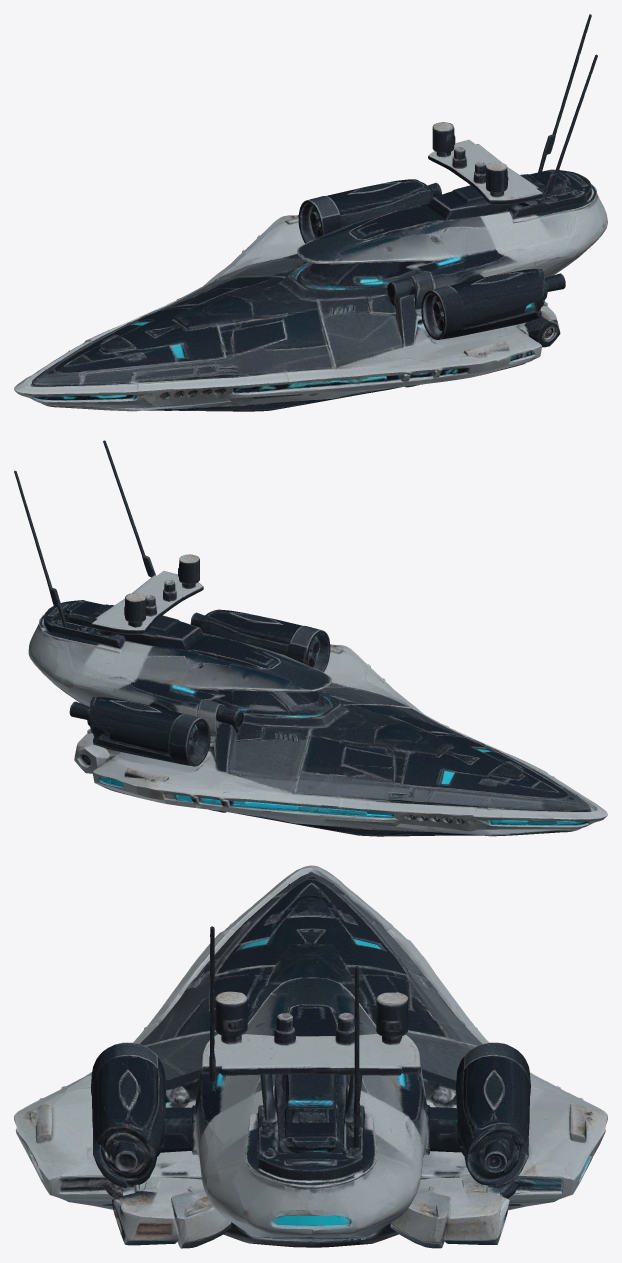
File: s_destroyer.glb
3 views of the same model, one above another, from view 1: azimuth 30°, elevation 25°; view 2: azimuth 150°, elevation 25°; view 3: azimuth 270°, elevation 25° (orthographic). The views are drawn at different scales.
Parts seen in each view (by area): view 1: mesh_0; view 2: mesh_0; view 3: mesh_0.
Boxes of the visible parts, x1=… form: mesh_0: x1=14, y1=14, x2=607, y2=411; mesh_0: x1=14, y1=440, x2=607, y2=836; mesh_0: x1=14, y1=865, x2=607, y2=1248.
Bounding box in the file's own units: 1.9 × 0.9143 × 1.11.
Materials: 1 (1 with a texture image).
